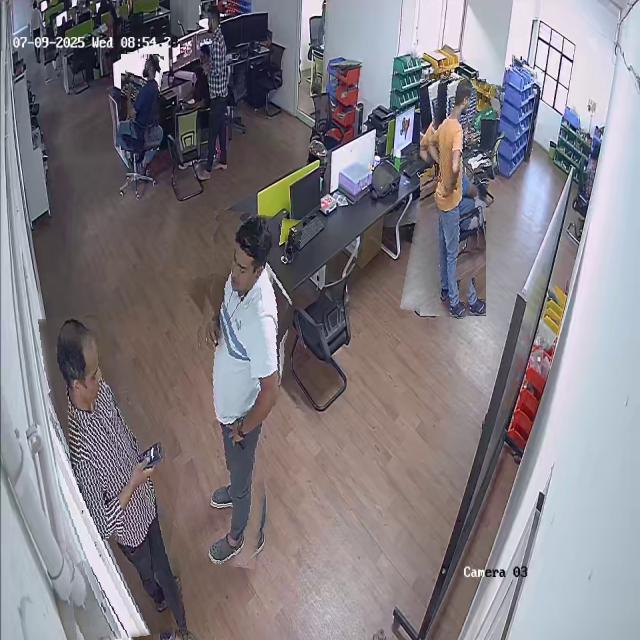person: (48, 308, 177, 640), (180, 211, 291, 567), (410, 77, 496, 318), (200, 5, 236, 179), (119, 53, 162, 151)
